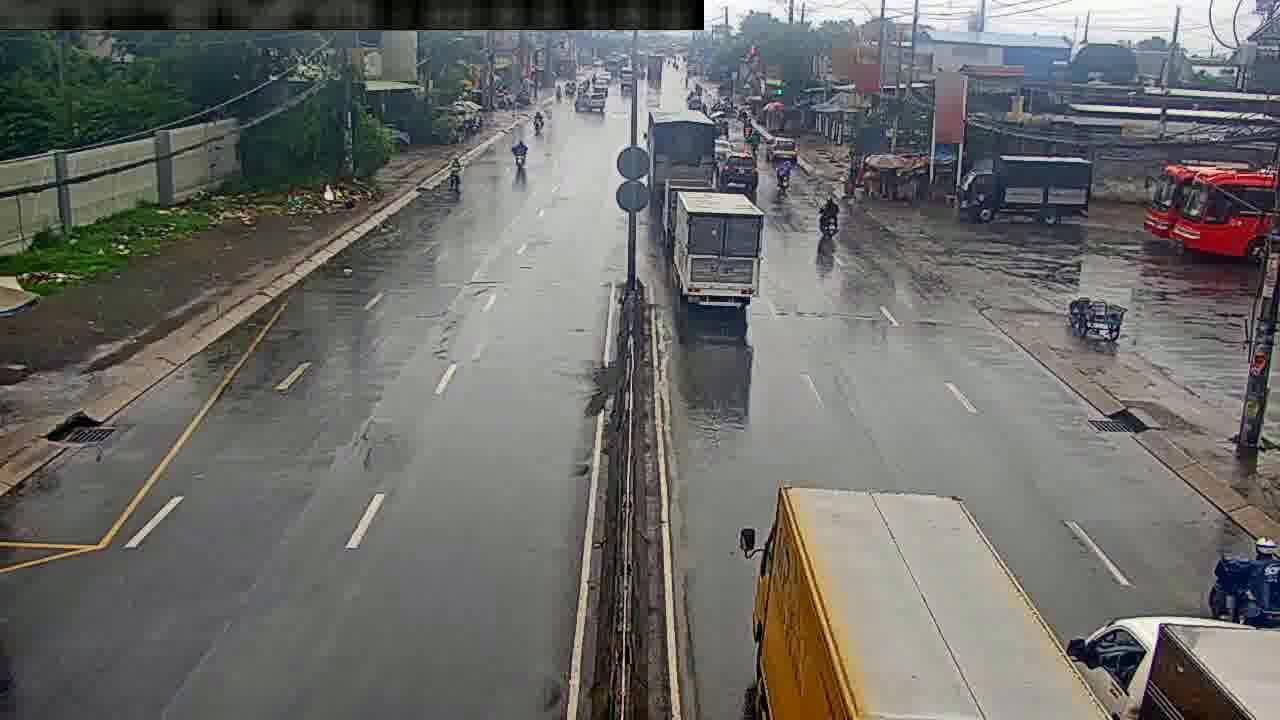8: (745, 489, 1115, 720), (673, 188, 758, 305), (645, 106, 710, 180)
container: (721, 153, 757, 185)
motorbike: (1211, 533, 1276, 633), (819, 193, 839, 250), (775, 148, 793, 193), (445, 152, 462, 194), (513, 137, 527, 173), (533, 109, 543, 135)
